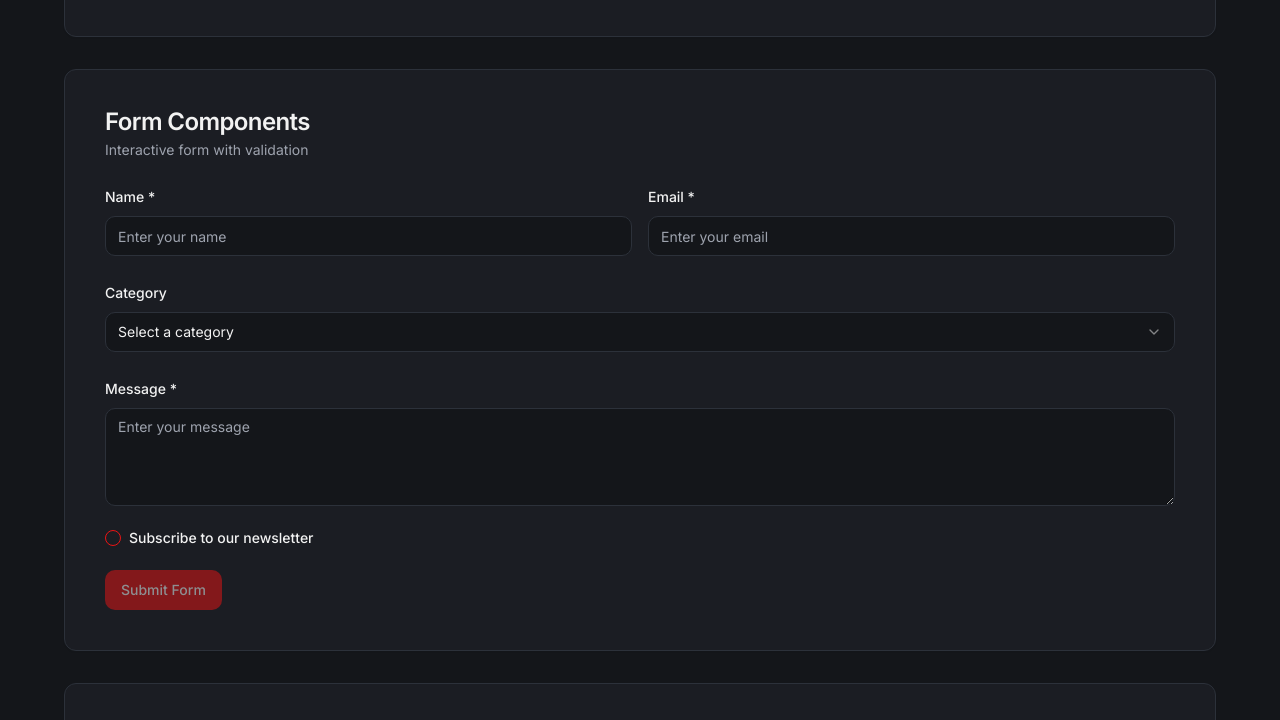
Test: Form Components E2E Tests › Select Component › should support keyboard navigation
(page scrolled)
Focus the dropdown with test id "select-category" at (176, 332), box [105, 312, 1175, 352]
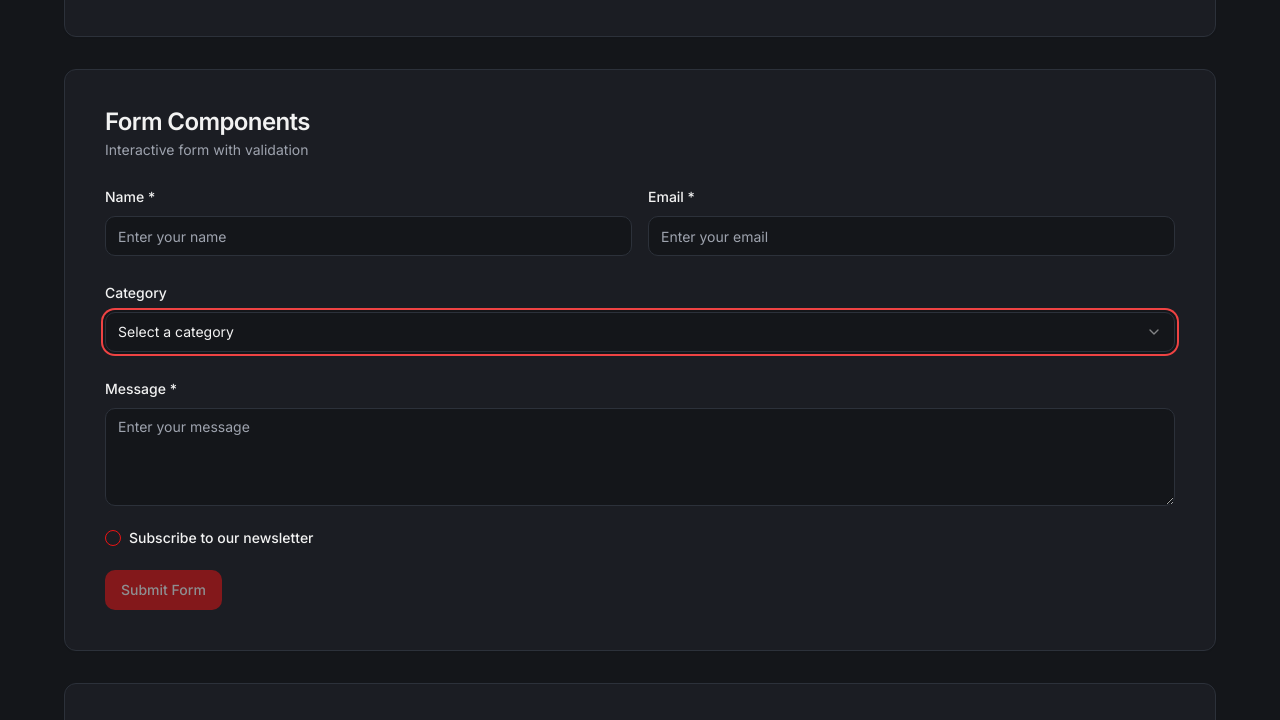
Press Enter in the dropdown with test id "select-category", box [105, 312, 1175, 352]
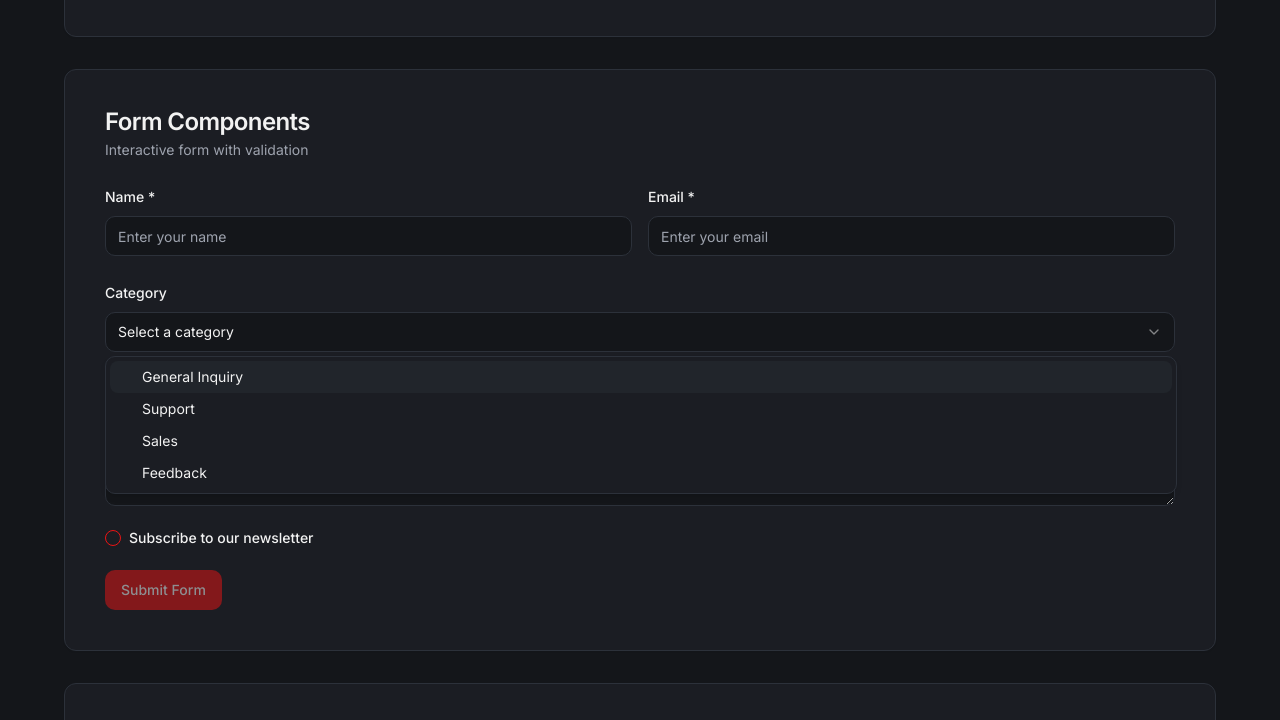
Expected: the option with test id "option-general" is shown
Press Downarrow in the option "General Inquiry", box [110, 361, 1172, 393]
Press Downarrow in the option "Support", box [110, 393, 1172, 425]
Press Enter in the option "Sales", box [110, 425, 1172, 457]
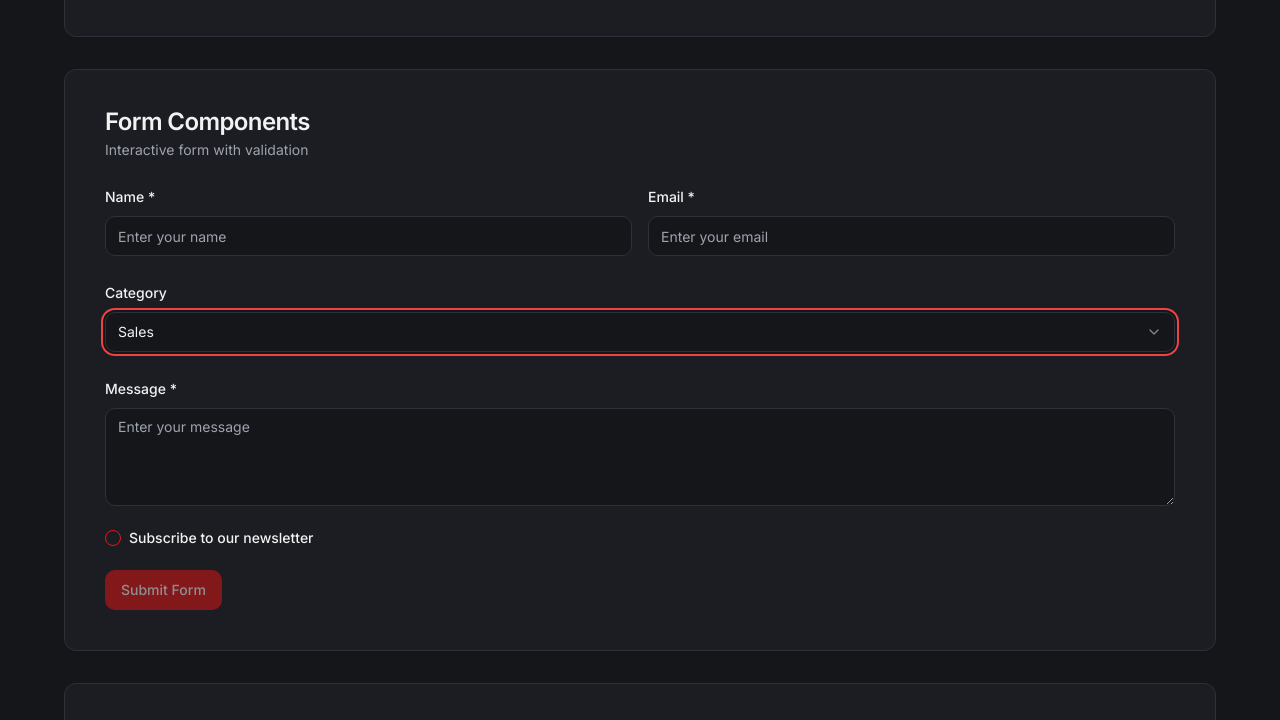
Expected: the dropdown with test id "select-category" reads "Sales", [105, 312, 1175, 352]
